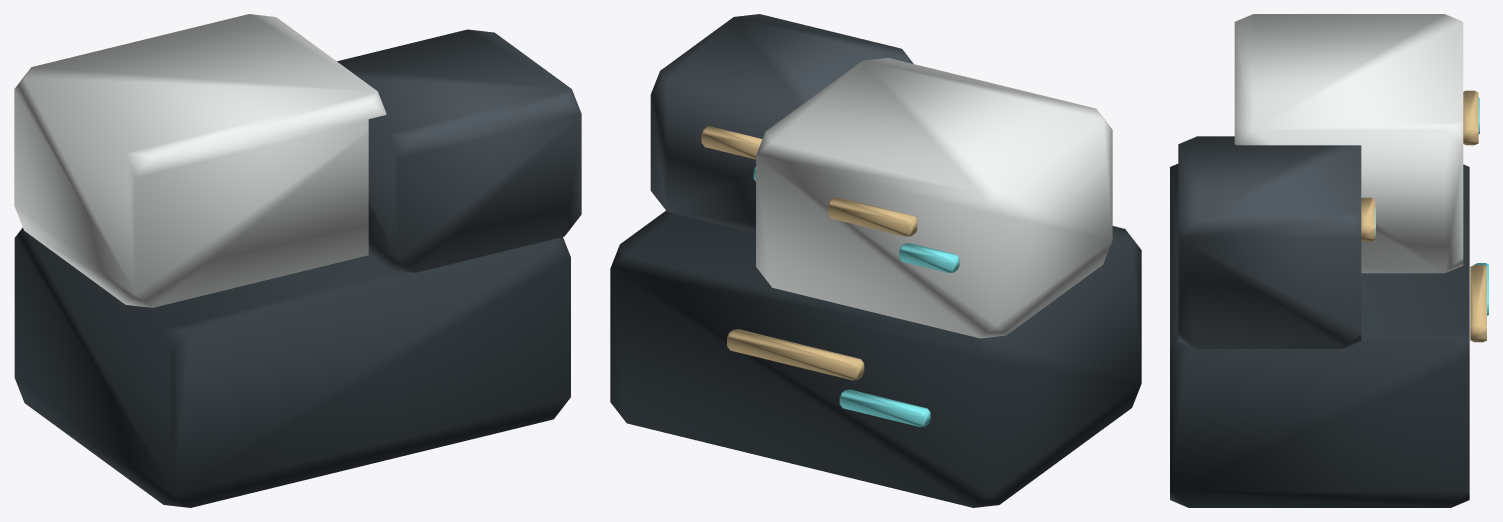
File: room_l5_v4_maintenance_crate_stack.glb
3 views of the same model, side by side, from view 1: azimuth 30°, elevation 25°; view 2: azimuth 150°, elevation 25°; view 3: azimuth 270°, elevation 25° (orthographic). The views are drawn at different scales.
Parts seen in each view (by area): view 1: stacked_crate_body_0, stacked_crate_body_1, stacked_crate_body_2; view 2: stacked_crate_body_0, stacked_crate_body_1, stacked_crate_body_2, crate_brass_front_latch_0, crate_brass_front_latch_1, crate_cyan_status_slot_0, crate_brass_front_latch_2, crate_cyan_status_slot_1; view 3: stacked_crate_body_0, stacked_crate_body_1, stacked_crate_body_2, crate_brass_front_latch_0, crate_brass_front_latch_1, crate_brass_front_latch_2.
Boxes of the visible parts, x1,y1,x2,y2 form: stacked_crate_body_0: (14,227,570,507); stacked_crate_body_1: (14,14,386,307); stacked_crate_body_2: (337,29,581,272); stacked_crate_body_0: (610,211,1141,507); stacked_crate_body_1: (756,58,1112,338); stacked_crate_body_2: (650,14,913,233); crate_brass_front_latch_0: (727,329,864,380); crate_brass_front_latch_1: (827,197,917,236); crate_cyan_status_slot_0: (839,389,930,426); crate_brass_front_latch_2: (701,126,762,159); crate_cyan_status_slot_1: (899,243,959,272); stacked_crate_body_0: (1170,164,1469,507); stacked_crate_body_1: (1234,14,1463,273); stacked_crate_body_2: (1178,136,1361,348); crate_brass_front_latch_0: (1470,265,1486,342); crate_brass_front_latch_1: (1463,90,1478,145); crate_brass_front_latch_2: (1361,197,1375,241).
Size of the model in its own units: 1.09 by 0.82 by 0.7663.
